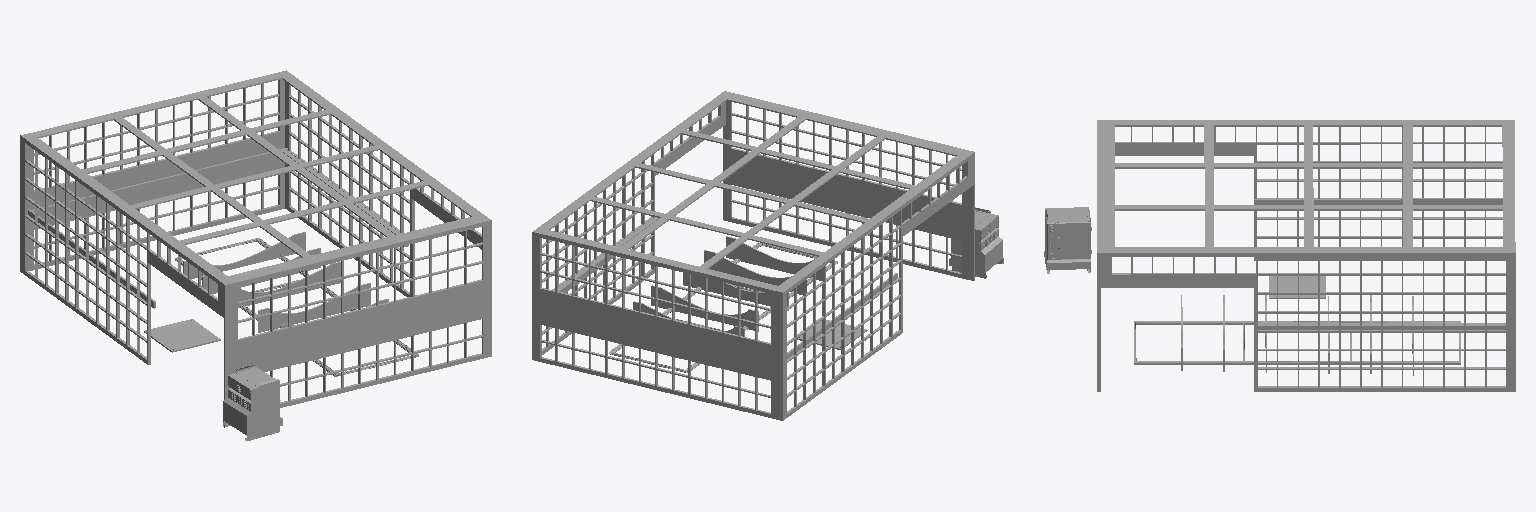
The robot description file, URDF, robot "wall":
<?xml version="1.0" ?>
<robot name="wall">
  <link name="world"/>
  <link name="testbed">
    <collision name="collision">
      <geometry>
        <mesh filename="package://abb_irb6640_support/meshes/Scene/testbed_new.stl"/>
      </geometry>
    </collision>
    <visual name="visual">
      <geometry>
        <mesh filename="package://abb_irb6640_support/meshes/Scene/testbed_new.stl"/>
      </geometry>
      <material name="DarkGrey">
        <color rgba="0.7 0.7 0.7 0.5"/>
      </material>
    </visual>
  </link>
  
  <joint name="joint" type="fixed">
    <parent link="world"/>
    <child link="testbed"/>
    <origin rpy="0 0 -1.57" xyz="1.0 -0.94 0.32"/>
  </joint>
  
  <gazebo>
    <static>true</static>
  </gazebo>
</robot>

--- What the picture shows (computed from the rendered views, not written in the file) ---
Views: 3 orthographic renders of the robot side by side, from view 1: azimuth 30°, elevation 25°; view 2: azimuth 150°, elevation 25°; view 3: azimuth 270°, elevation 25°.
Model wall with 2 links and 1 joints (1 fixed), rooted at world, posed all joints at 0.
Links seen in each view (by area): view 1: testbed; view 2: testbed; view 3: testbed.
Link boxes in pixels (x1,y1,x2,y2): testbed: (20, 70, 491, 440); testbed: (532, 91, 1003, 420); testbed: (1044, 120, 1515, 391).
Size in the robot's own frame: 5.11 by 7.47 by 2.44 metres.
Meshes: 1 distinct files referenced, 1 mesh visuals loaded (1 binary STL).